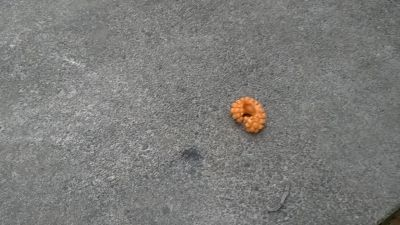eggs: (231, 96, 268, 134)
